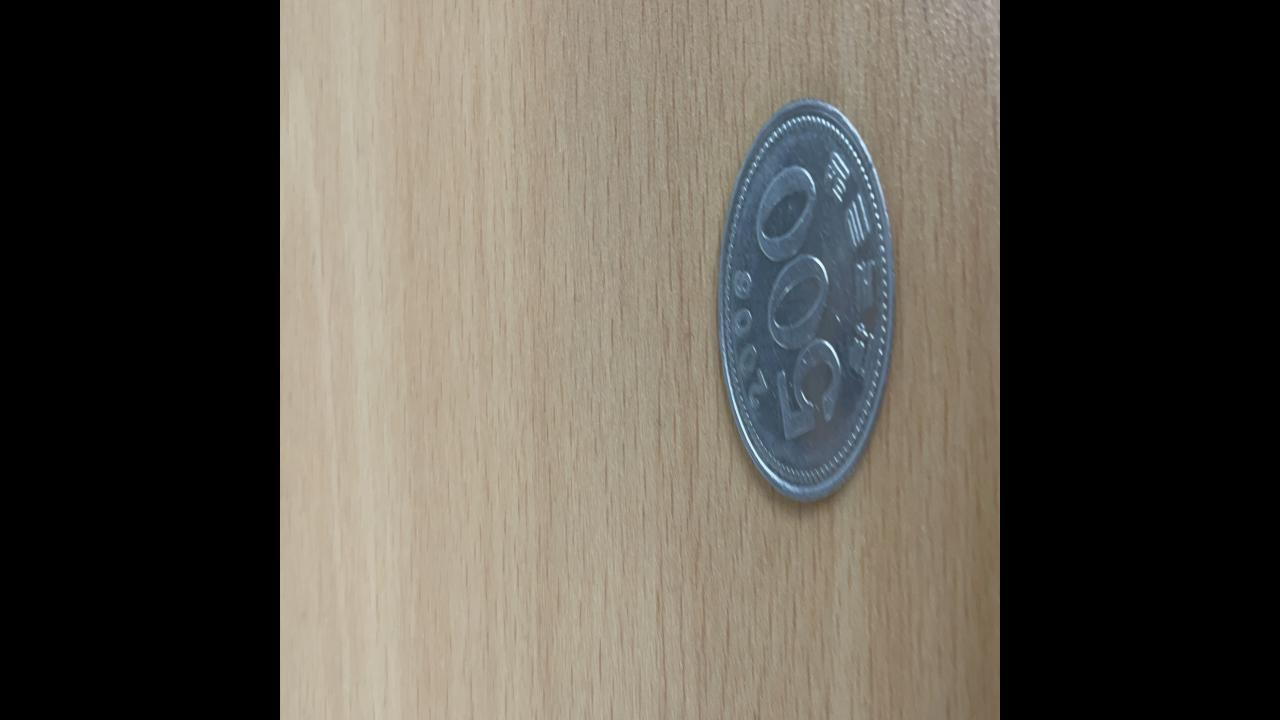coin: (717, 96, 893, 502)
